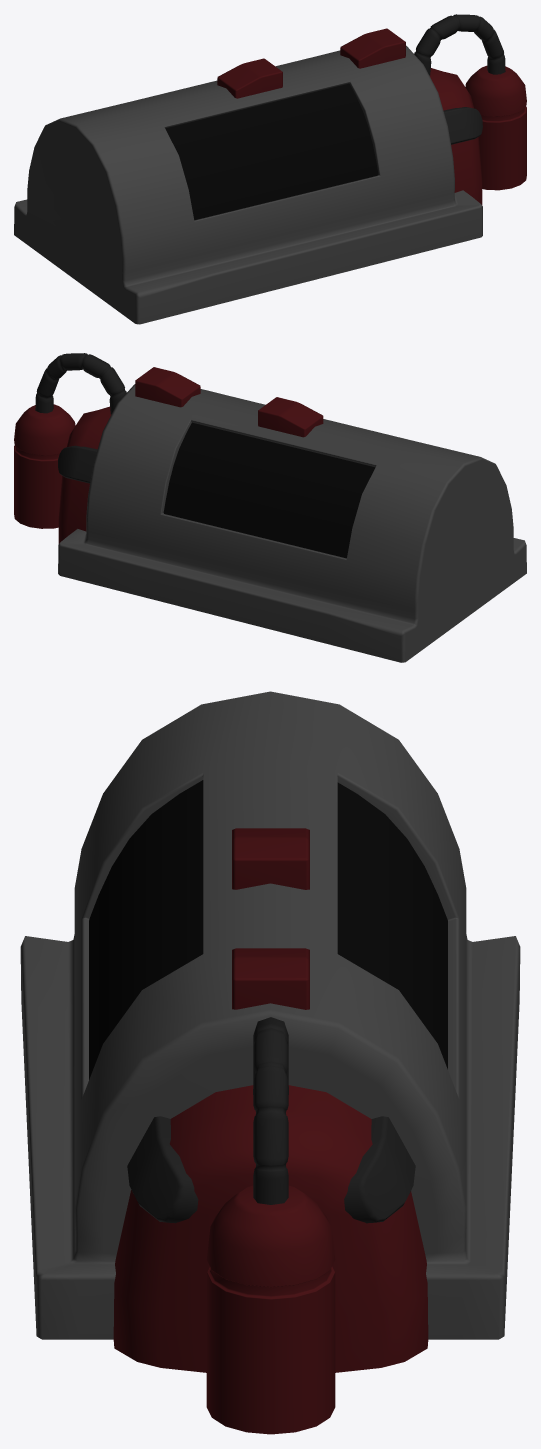
The model's file is colony_Farm_module.glb.
3 views of the same model, one above another, from view 1: azimuth 30°, elevation 25°; view 2: azimuth 150°, elevation 25°; view 3: azimuth 270°, elevation 25° (orthographic). The views are drawn at different scales.
Visible parts, largest first — view 1: Farm_module; view 2: Farm_module; view 3: Farm_module.
Part boxes in pixels (<box>): Farm_module: <box>14,14,526,324</box>; Farm_module: <box>14,353,526,662</box>; Farm_module: <box>20,691,520,1434</box>.
Bounding box in the file's own units: 863 × 314 × 417.
Materials: 1 (1 with a texture image).
